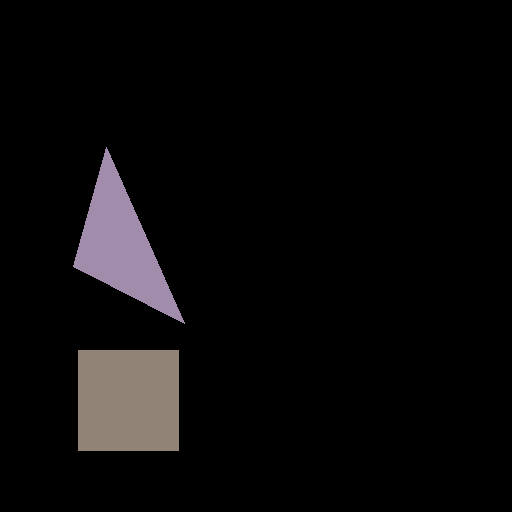square: (78, 350, 178, 450)
triangle: (73, 147, 184, 323)
